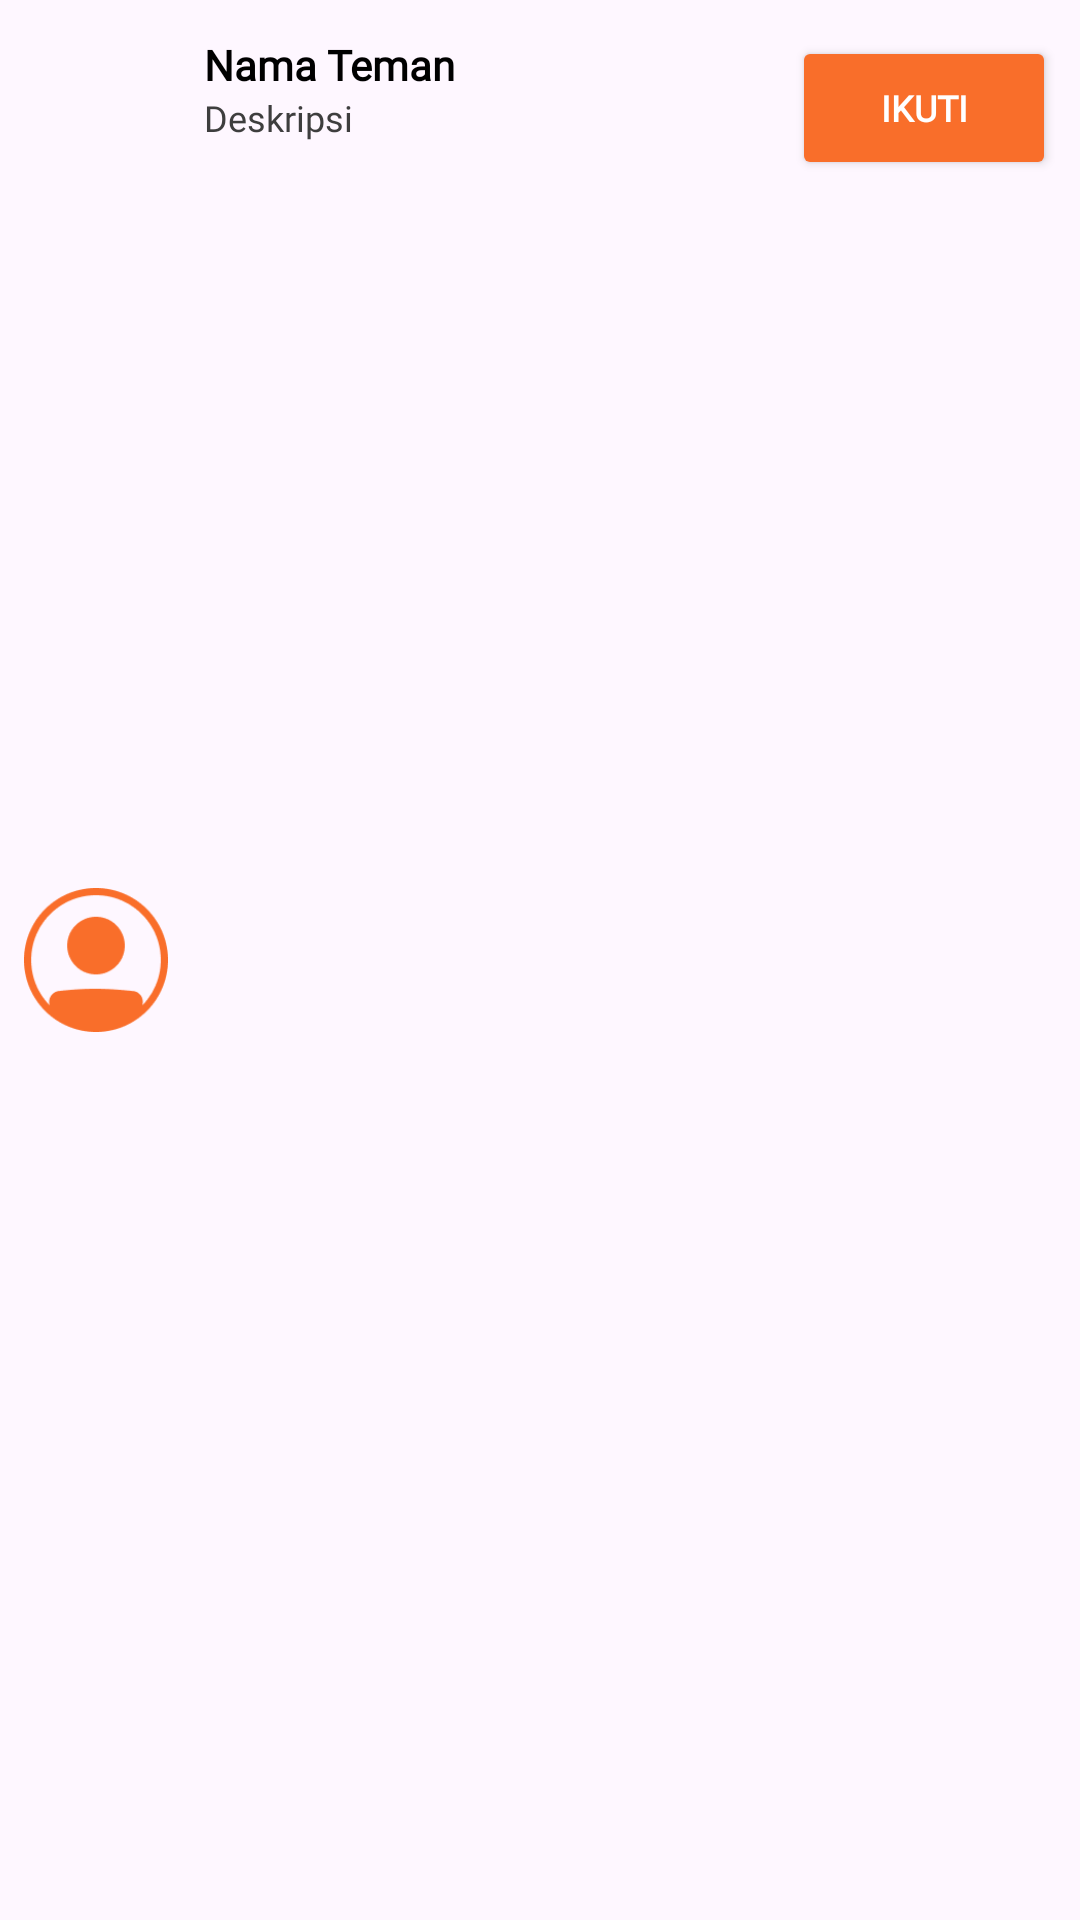

Icons on this 1080 x 1920 Android screen, each with the point to tap as (x,y):
Avatar: (96,960)
